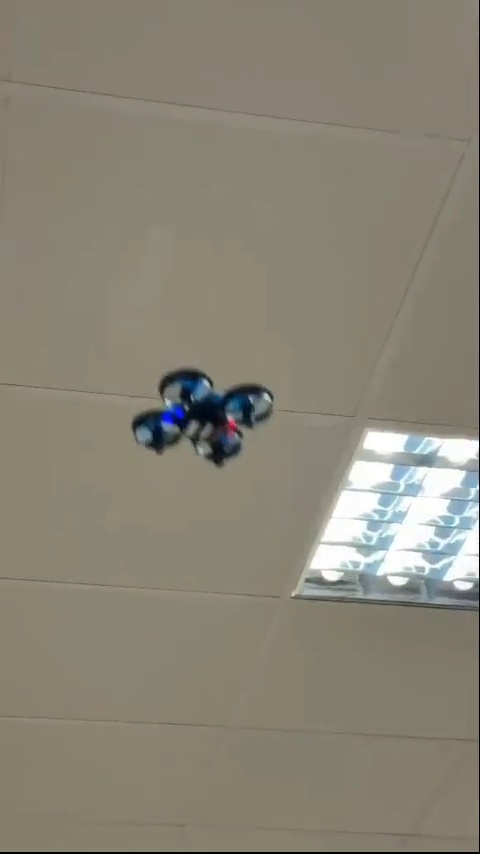drone: (129, 364, 273, 467)
